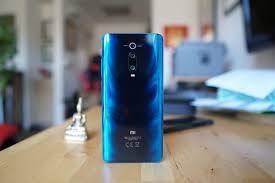mi: (103, 29, 166, 164)
